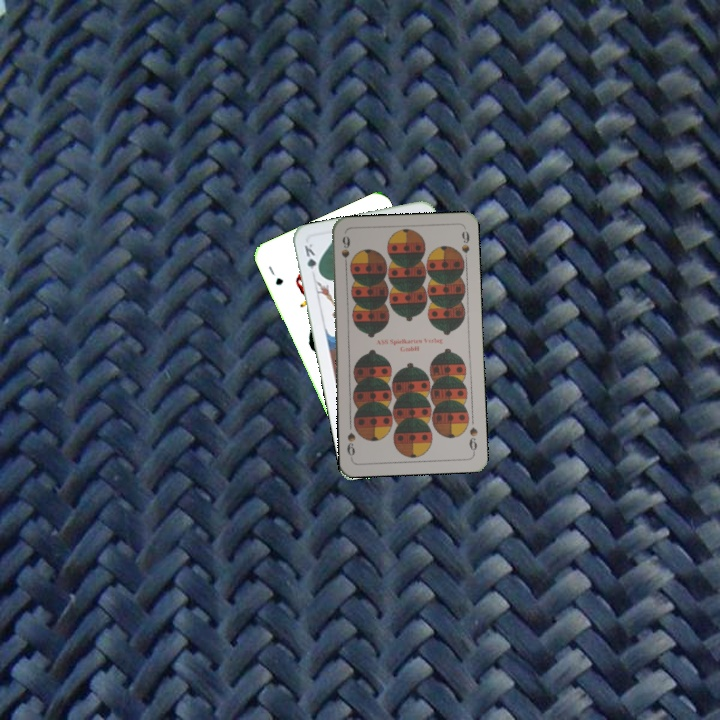GK: (300, 239, 322, 278)
GU: (264, 262, 286, 288)
S9: (337, 232, 353, 272), (465, 423, 480, 456)
